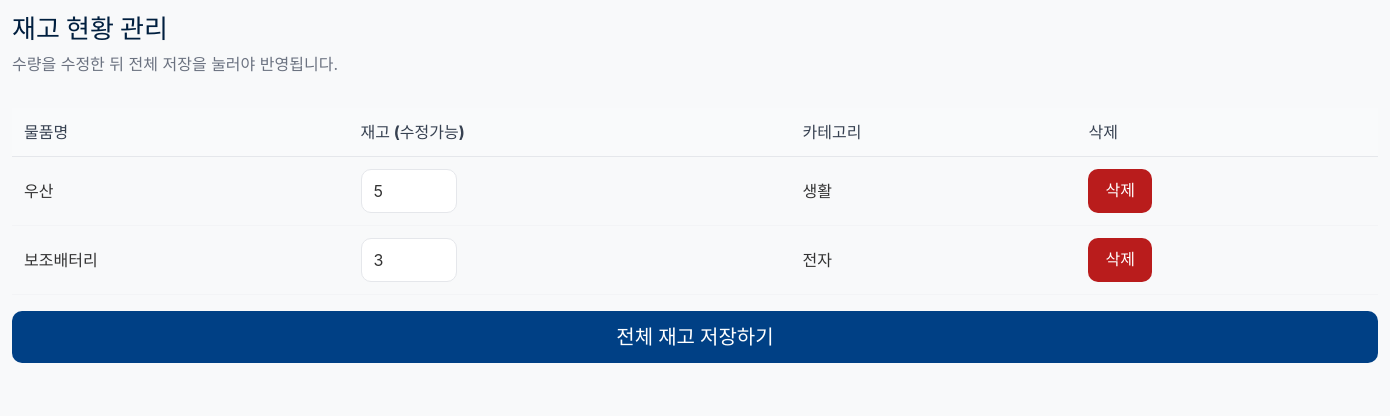
it: AdminStockPage › marks edited rows
The width and height of the screenshot is (1390, 416).
Check: the text "저장하지 않은 변경" is not shown
Clear the number field named "우산 재고" at (409, 191), box [361,169,457,213]
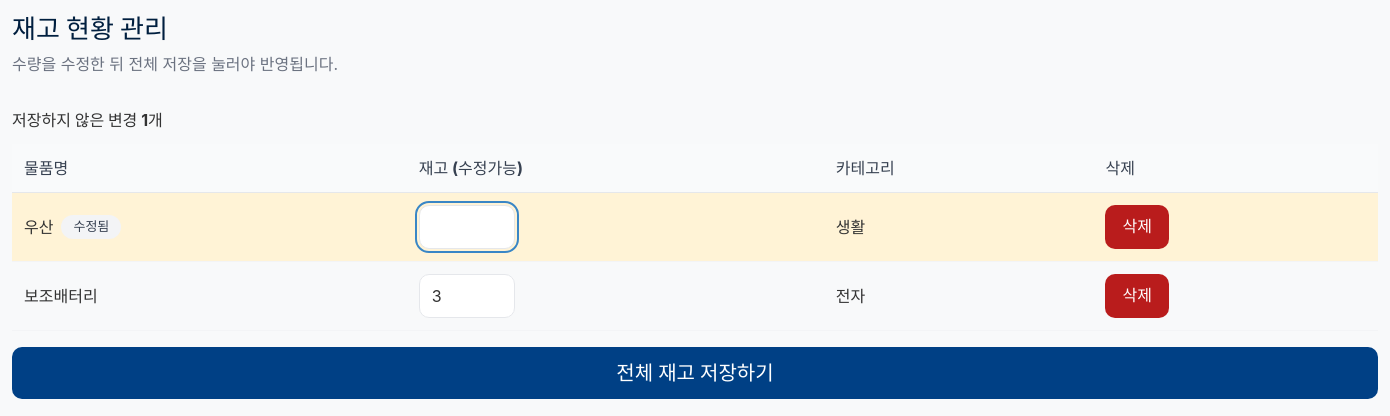
Type "4" into the number field named "우산 재고".
click(467, 227); type("4")  # box [419,205,515,249]
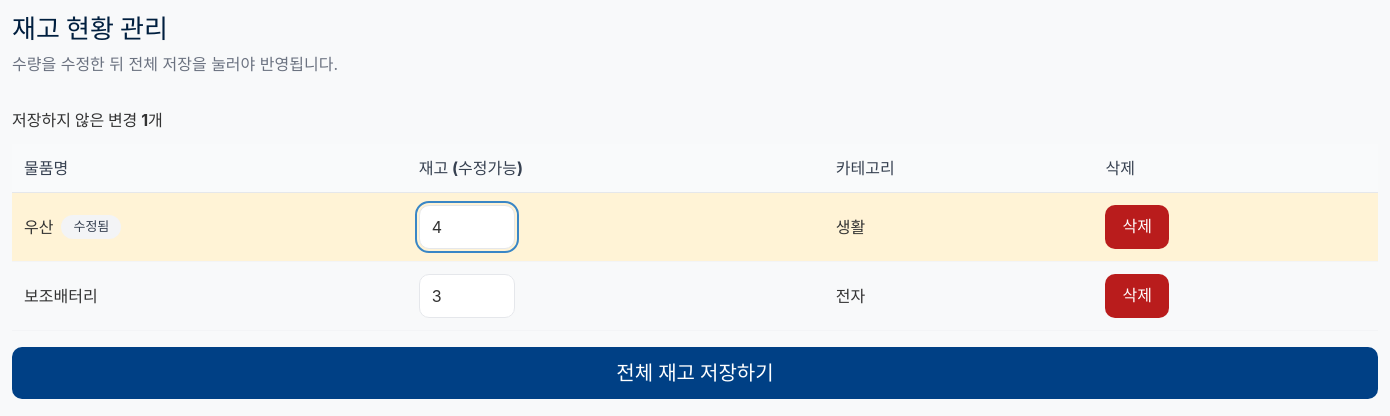
Check: the row "우산 수정됨 생활 삭제" is shown, box [12,192,1378,262]
Check: the text "저장하지 않은 변경 1개" is shown, box [12,110,163,130]
Check: the text "수정됨" is shown, box [62,215,121,239]
Replace the text in the number field named "우산 재고" with "5" at (467, 227), box [419,205,515,249]
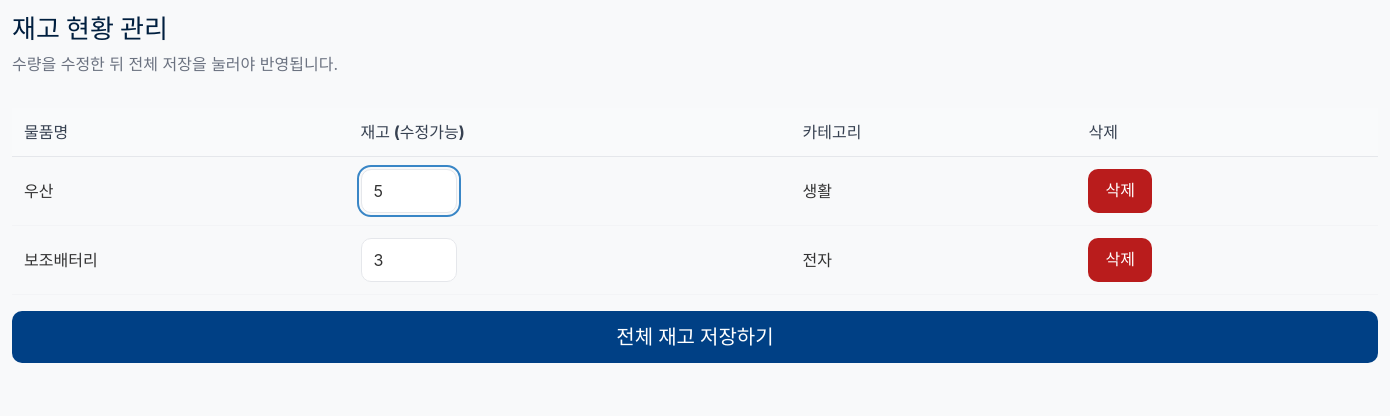
Check: the text "저장하지 않은 변경" is gone
Check: the text "수정됨" is gone
